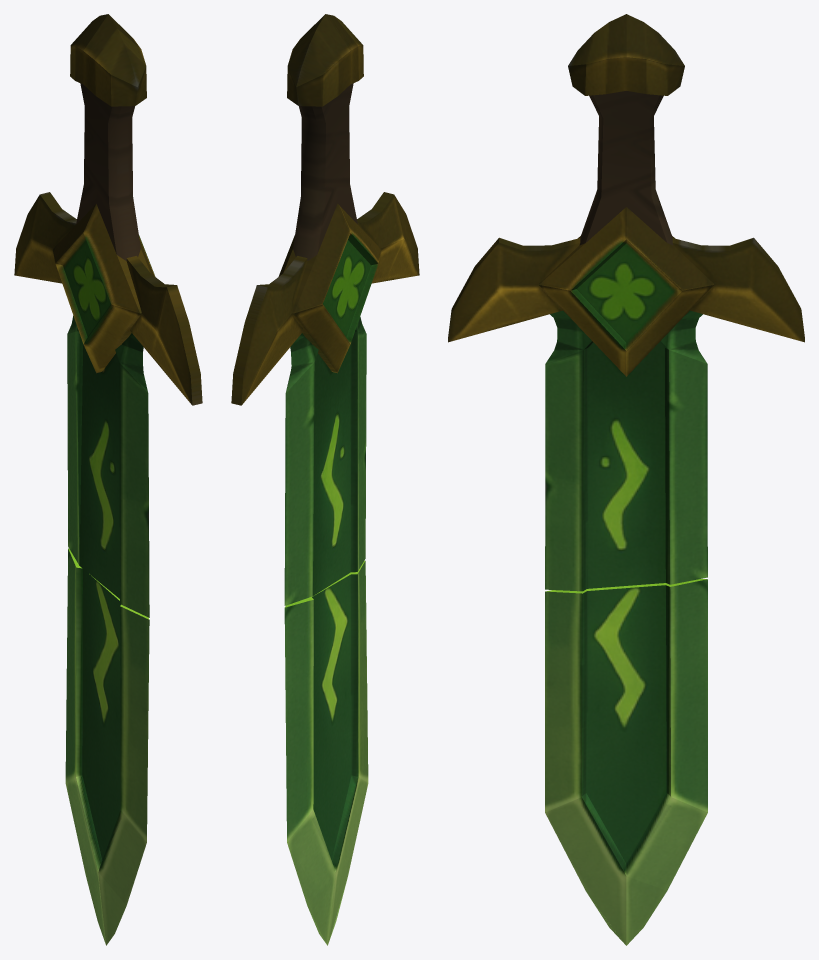
File: Pie_Knight_Sword_Piece.fbx
3 views of the same model, side by side, from view 1: azimuth 30°, elevation 25°; view 2: azimuth 150°, elevation 25°; view 3: azimuth 270°, elevation 25° (orthographic).
Parts seen in each view (by area): view 1: Pie_Knight_Sword_Piece.000, Pie_Knight_Sword_Piece.001; view 2: Pie_Knight_Sword_Piece.000, Pie_Knight_Sword_Piece.001; view 3: Pie_Knight_Sword_Piece.000, Pie_Knight_Sword_Piece.001.
Part boxes in pixels (bbox=[...]): Pie_Knight_Sword_Piece.000: bbox=[14, 14, 202, 617]; Pie_Knight_Sword_Piece.001: bbox=[65, 548, 149, 945]; Pie_Knight_Sword_Piece.000: bbox=[231, 14, 419, 605]; Pie_Knight_Sword_Piece.001: bbox=[284, 560, 368, 945]; Pie_Knight_Sword_Piece.000: bbox=[448, 14, 804, 591]; Pie_Knight_Sword_Piece.001: bbox=[545, 579, 707, 945].
Size of the model in its own units: 4.55 by 80.56 by 27.92.
